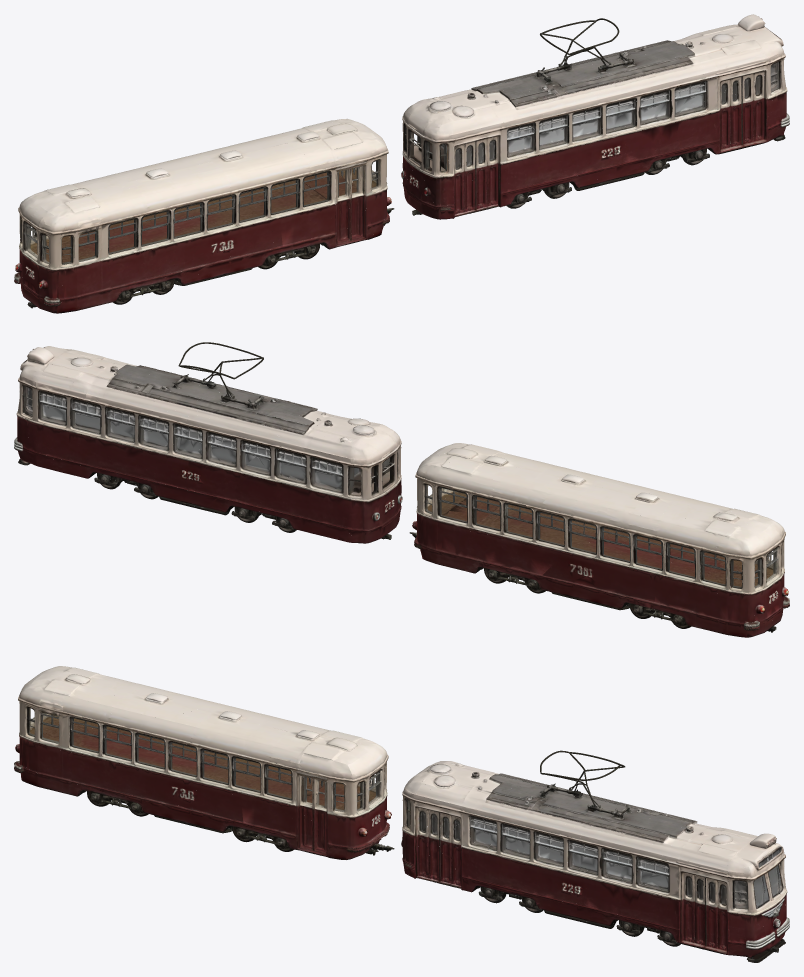
Rendered from ktm2.glb.
The picture shows the model from 3 angles, top to bottom: view 1: azimuth 30°, elevation 25°; view 2: azimuth 150°, elevation 25°; view 3: azimuth 330°, elevation 25°; orthographic projection.
Parts seen in each view (by area): view 1: KTM-2, KTP-2; view 2: KTM-2, KTP-2; view 3: KTM-2, KTP-2.
Part boxes in pixels (x1,y1,x2,y2): KTM-2: [401, 14, 789, 219]; KTP-2: [14, 118, 394, 313]; KTM-2: [14, 342, 402, 543]; KTP-2: [409, 443, 789, 637]; KTM-2: [401, 750, 789, 962]; KTP-2: [14, 666, 394, 859].
Bounding box in the file's own units: 27.9 × 5.33 × 2.6.
Materials: 2 (2 with a texture image).
